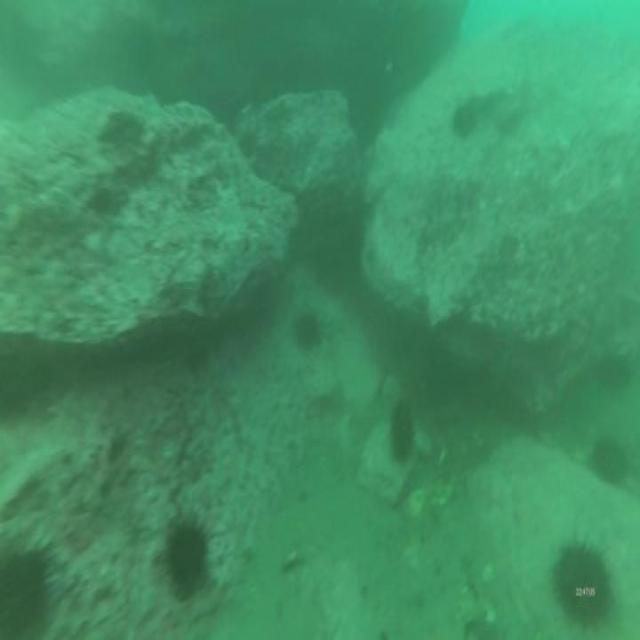echinus: (548, 531, 616, 634), (1, 540, 61, 640), (161, 510, 212, 606), (587, 430, 632, 490), (387, 392, 418, 466), (595, 345, 633, 395), (291, 308, 325, 356), (449, 101, 479, 139)
